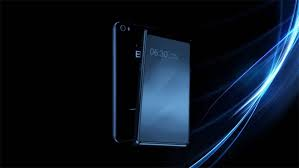bphone: (111, 20, 192, 149)
